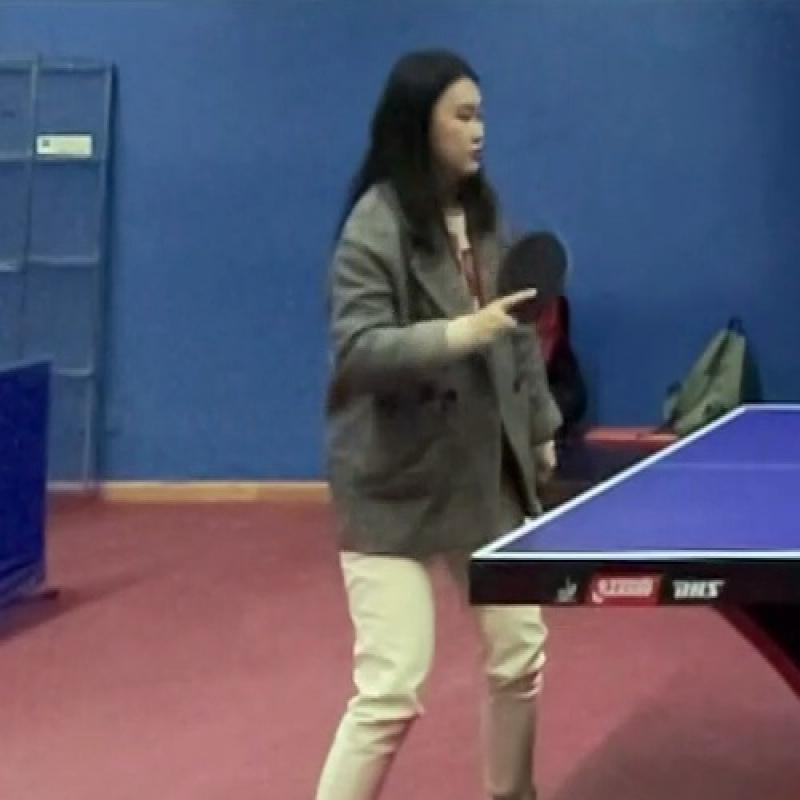bats: (481, 217, 578, 337)
